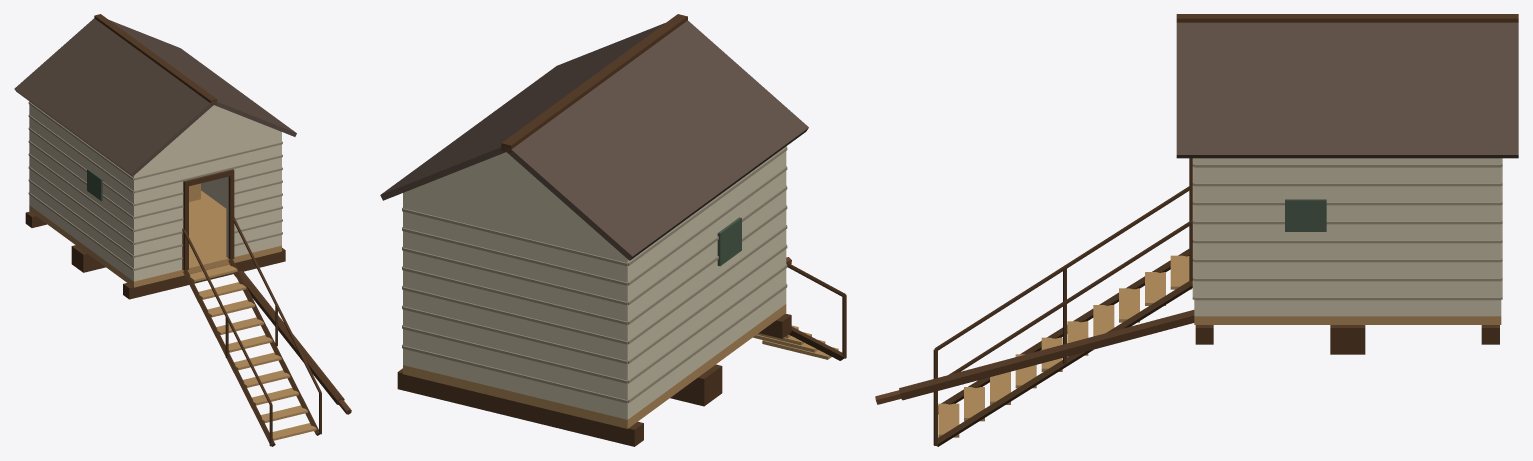
The model's file is post_mill_body.glb.
3 views of the same model, side by side, from view 1: azimuth 30°, elevation 25°; view 2: azimuth 150°, elevation 25°; view 3: azimuth 270°, elevation 25° (orthographic). The views are drawn at different scales.
Visible parts, largest first — view 1: body; view 2: body; view 3: body.
Part boxes in pixels (bbox=[...]): body: bbox=[14, 14, 351, 446]; body: bbox=[380, 14, 846, 446]; body: bbox=[875, 14, 1518, 446].
Bounding box in the file's own units: 4.05 × 6.55 × 9.22.
